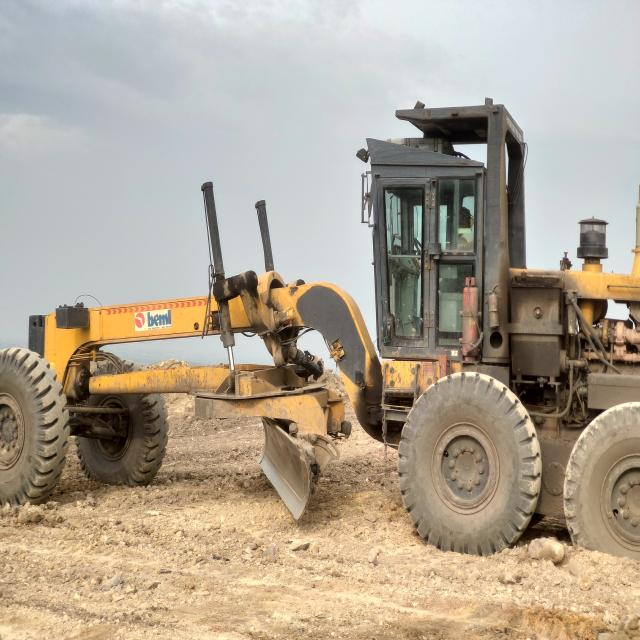buldozerpayloadergrader: (0, 98, 640, 560)
